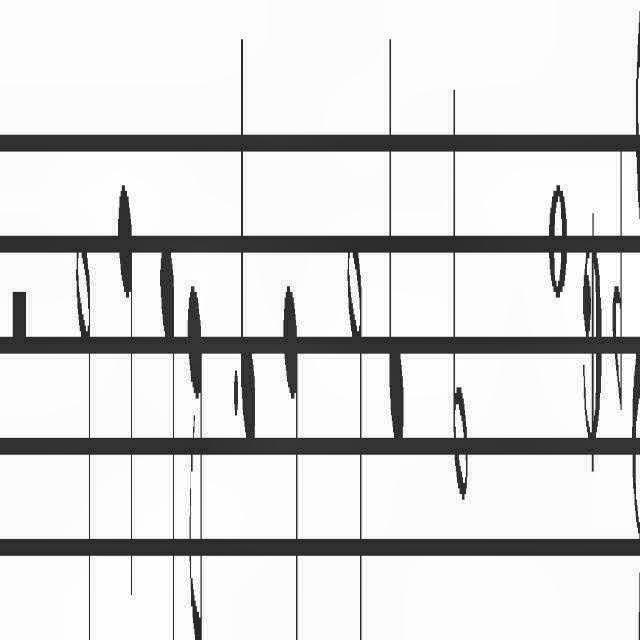Bass-clef: (631, 0, 640, 640), (639, 0, 640, 640)
Bemol: (612, 129, 624, 411)
Eighth-note: (186, 264, 204, 640)
Full-note: (548, 164, 568, 312)
Half-note: (450, 50, 470, 508), (76, 212, 96, 640), (346, 219, 365, 640)
Quarter-note: (386, 4, 406, 458), (116, 177, 136, 628), (239, 17, 259, 451), (158, 212, 178, 640), (280, 269, 300, 639)
